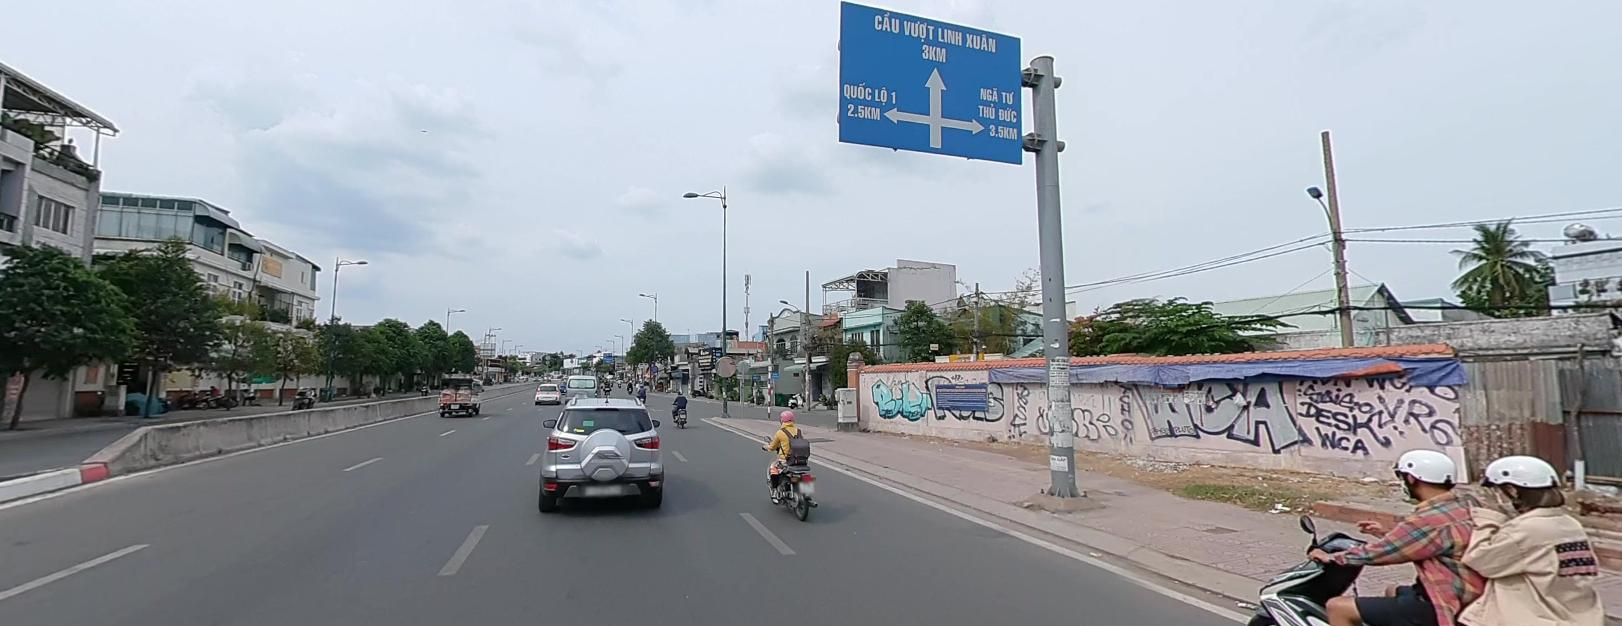Cam dung va do: (650, 363, 658, 371)
